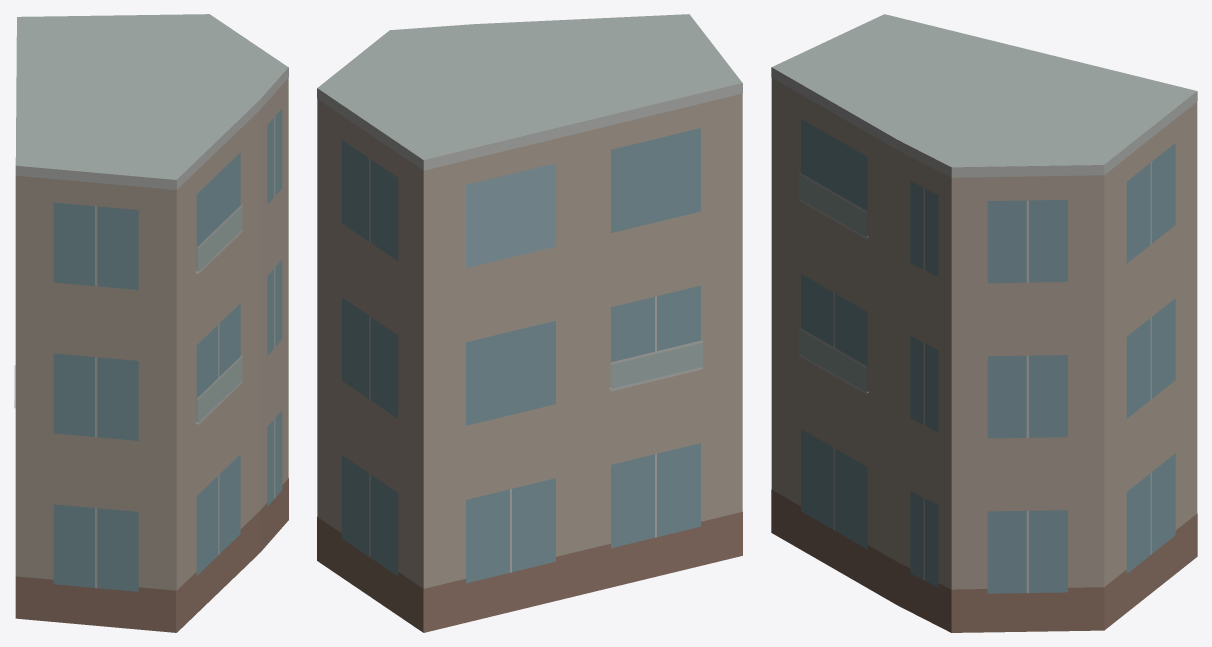
The model's file is survey-upis-32492705.glb.
3 renders of one model, left to right at view 1: azimuth 30°, elevation 25°; view 2: azimuth 150°, elevation 25°; view 3: azimuth 270°, elevation 25°, orthographic. The views are drawn at different scales.
Parts seen in each view (by area): view 1: survey-upis-32492705.tmp; view 2: survey-upis-32492705.tmp; view 3: survey-upis-32492705.tmp.
Boxes of the visible parts, x1,y1,x2,y2 form: survey-upis-32492705.tmp: (14, 14, 288, 632); survey-upis-32492705.tmp: (317, 14, 742, 632); survey-upis-32492705.tmp: (771, 14, 1197, 632).
Size of the model in its own units: 7.78 by 11 by 9.13.
